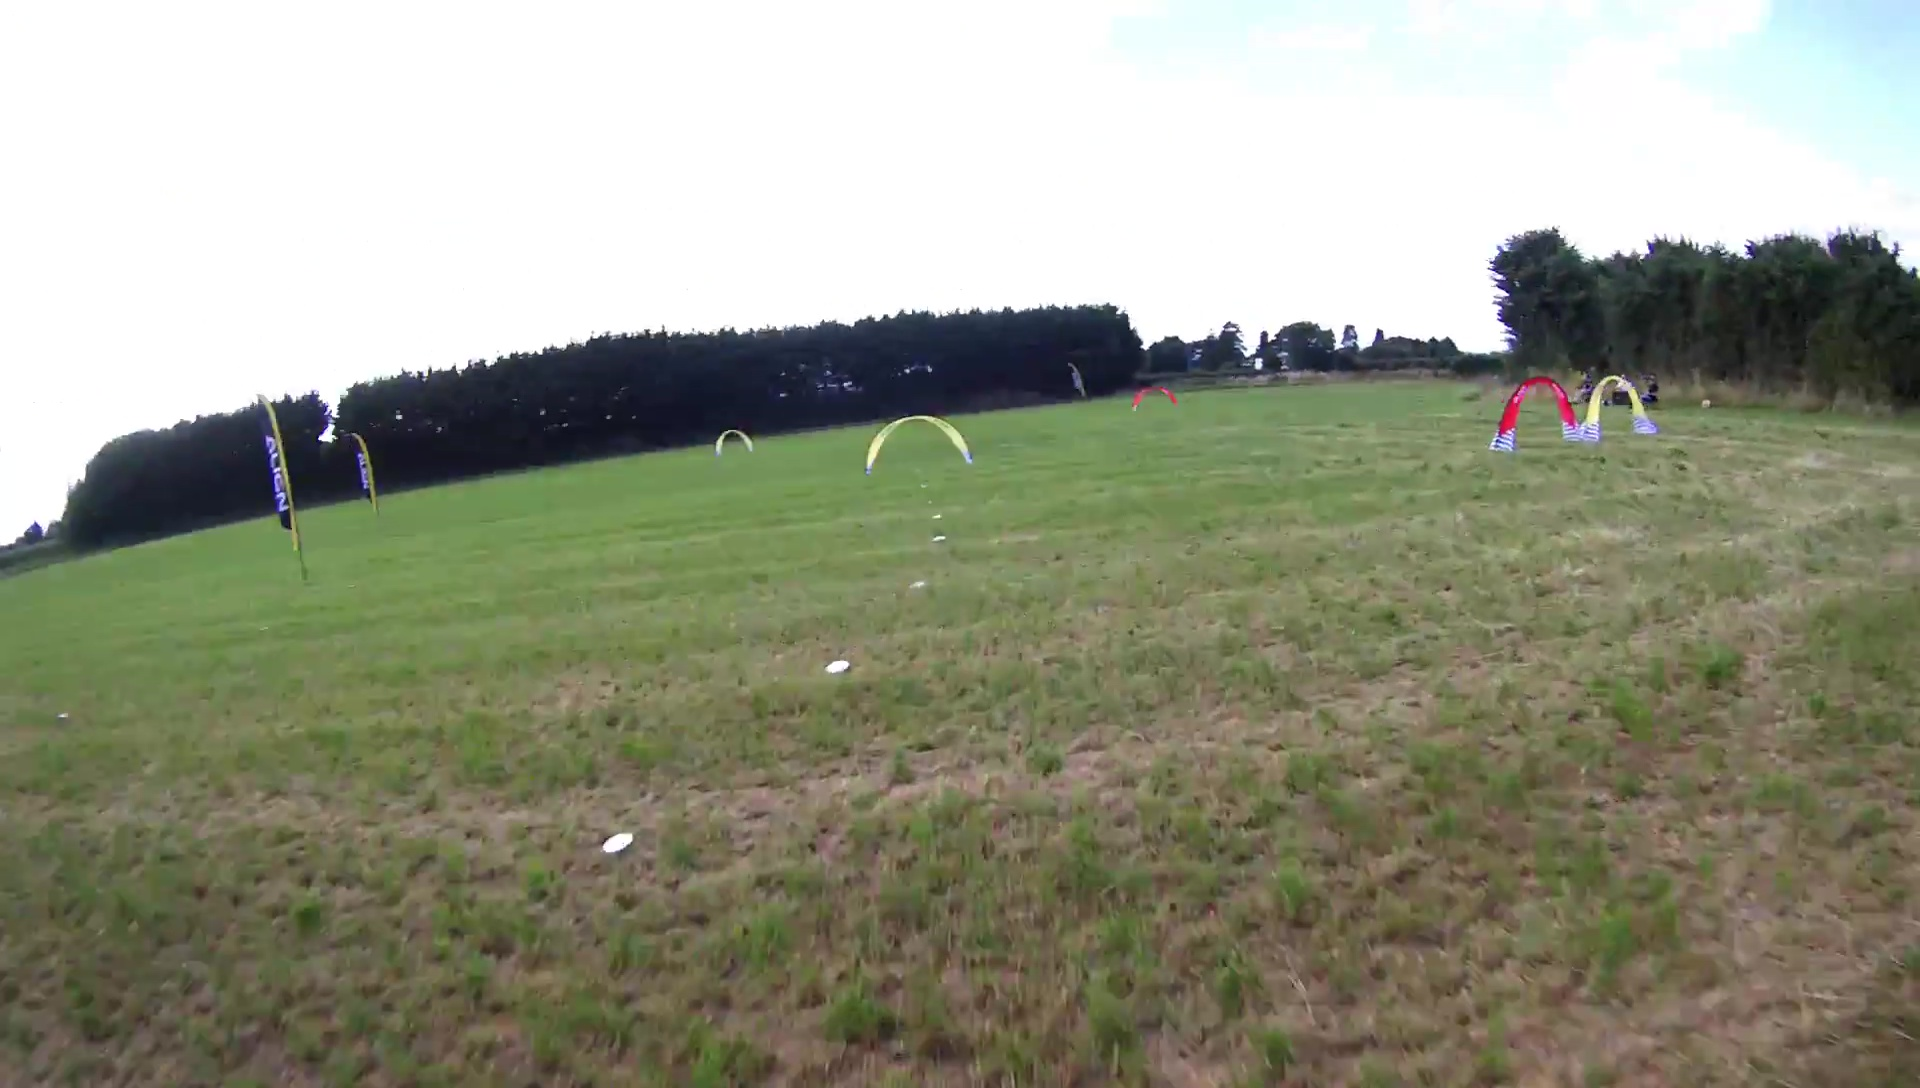gate: (1489, 376, 1584, 455), (865, 414, 975, 473), (1580, 375, 1654, 444), (1131, 382, 1182, 411), (713, 429, 756, 452)
